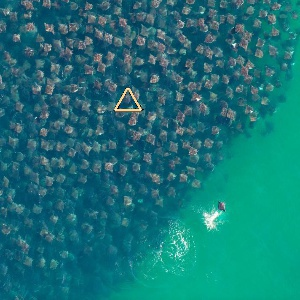triangle: (112, 84, 144, 115)
